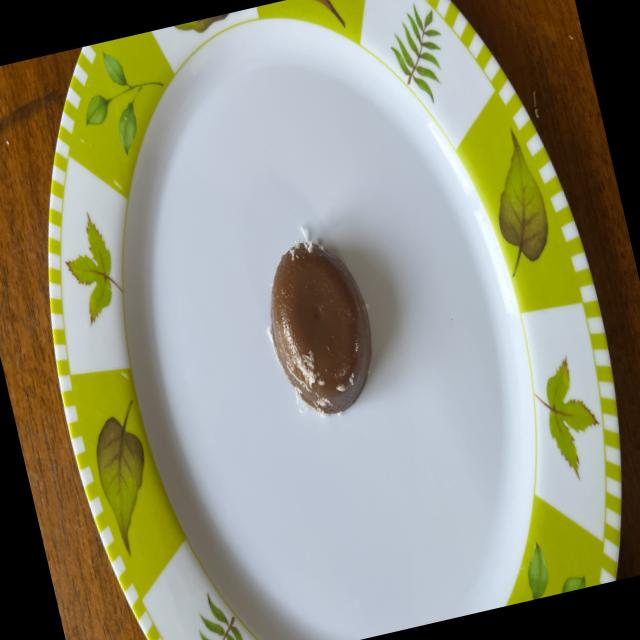Kuih lompang: (270, 240, 371, 413)
